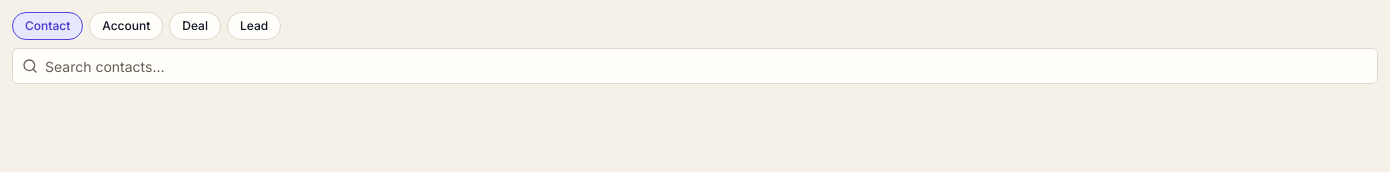
it: RecordPicker › a failed search says so — never "no matches"
This screenshot has width=1390, height=172.
Type "x" into the dropdown named "Find record" at (695, 66), box [12,48,1378,84]
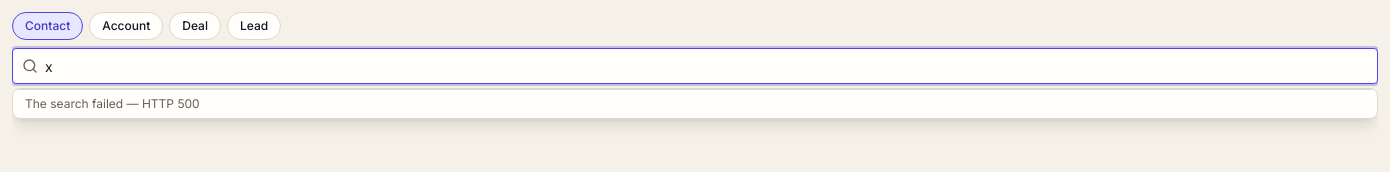
Check: the text "The search failed — HTTP 500" is shown, box [13,89,1377,118]
